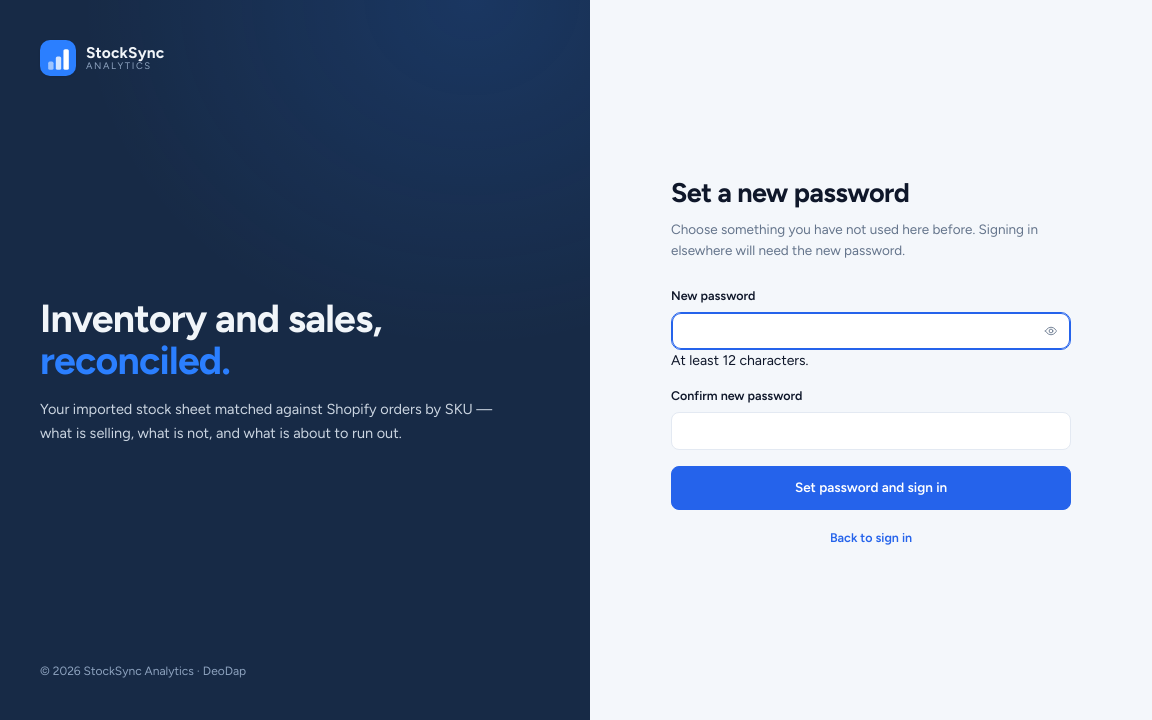
Scenario: Reset password › shows the server’s refusal rather than inventing one
The width and height of the screenshot is (1152, 720).
In the password field labelled "New password": coordinates (871, 331) [671,312,1071,350], type "short"
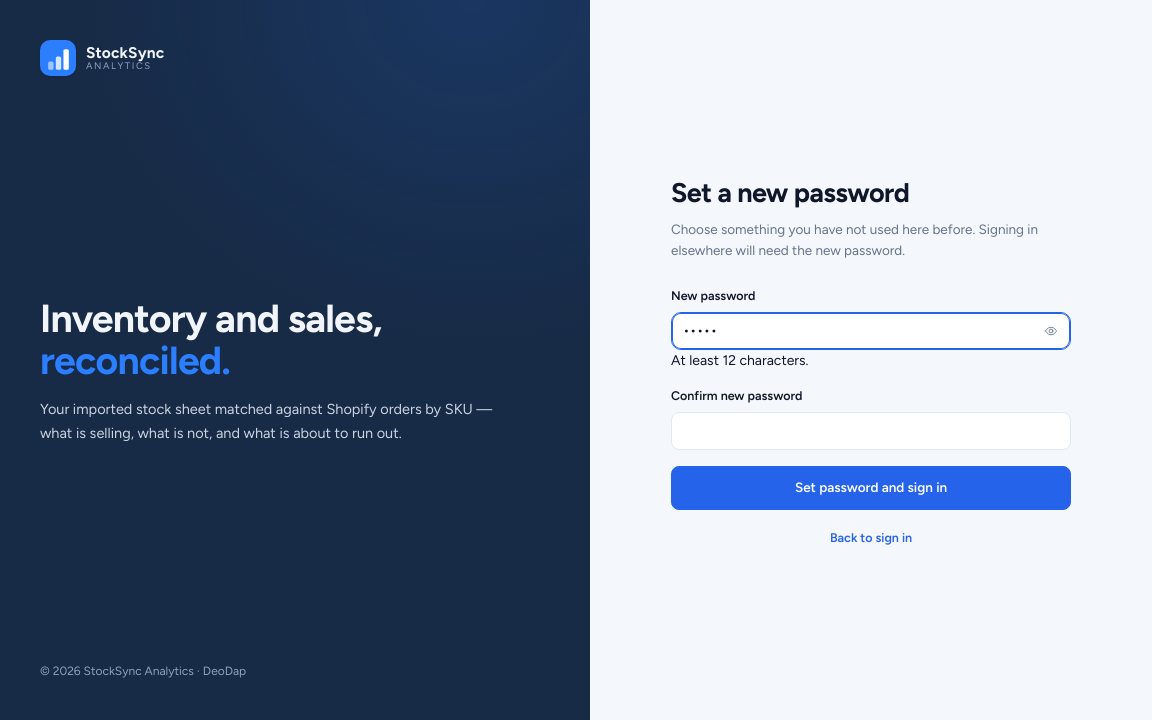
In the password field labelled "Confirm new password": coordinates (871, 430) [671,412,1071,450], type "short"
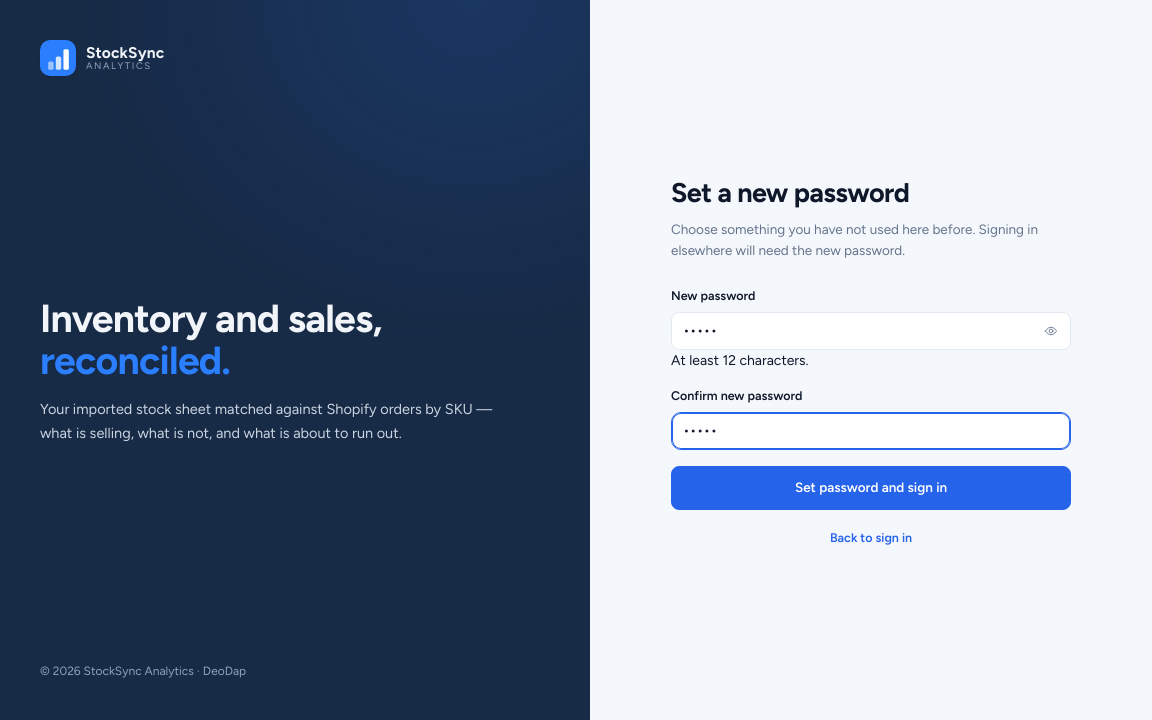
Click the button "Set password and sign in": coordinates (871, 488) [671,466,1071,510]
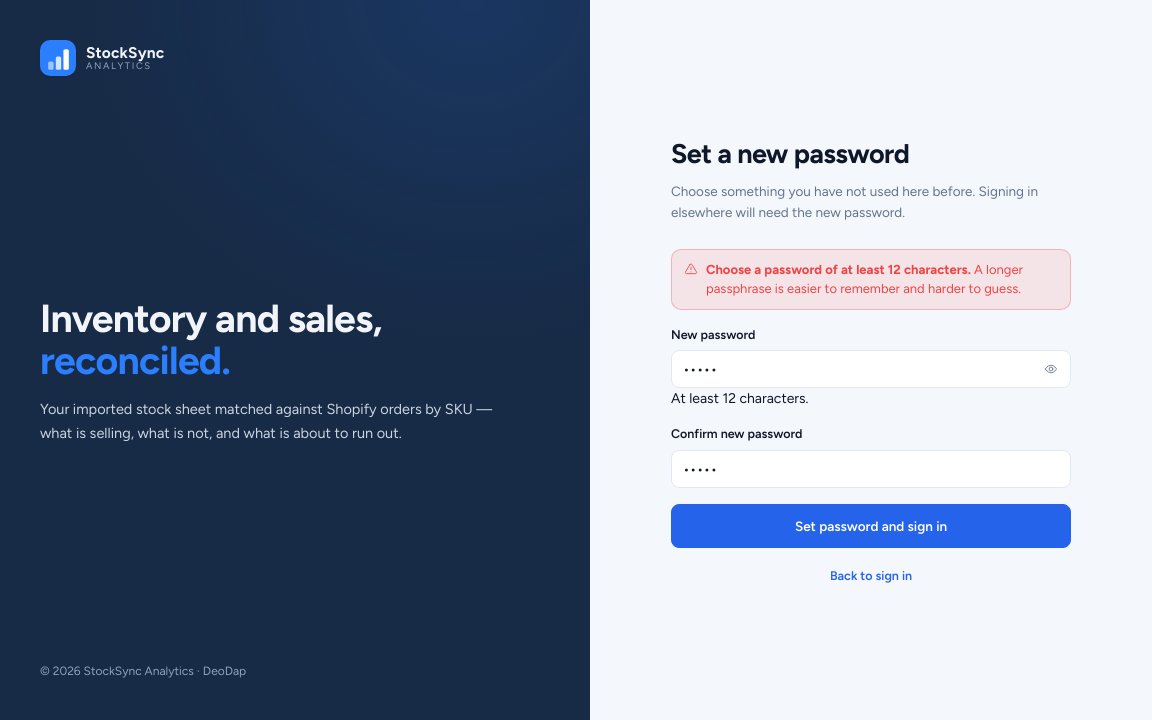
Now the text "Choose a password of at least 12 characters." is shown, box [706,262,971,276]
